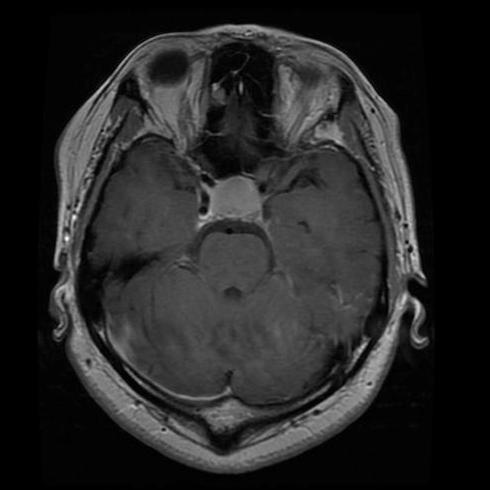Tumour-Pituitary: (188, 169, 288, 234)
